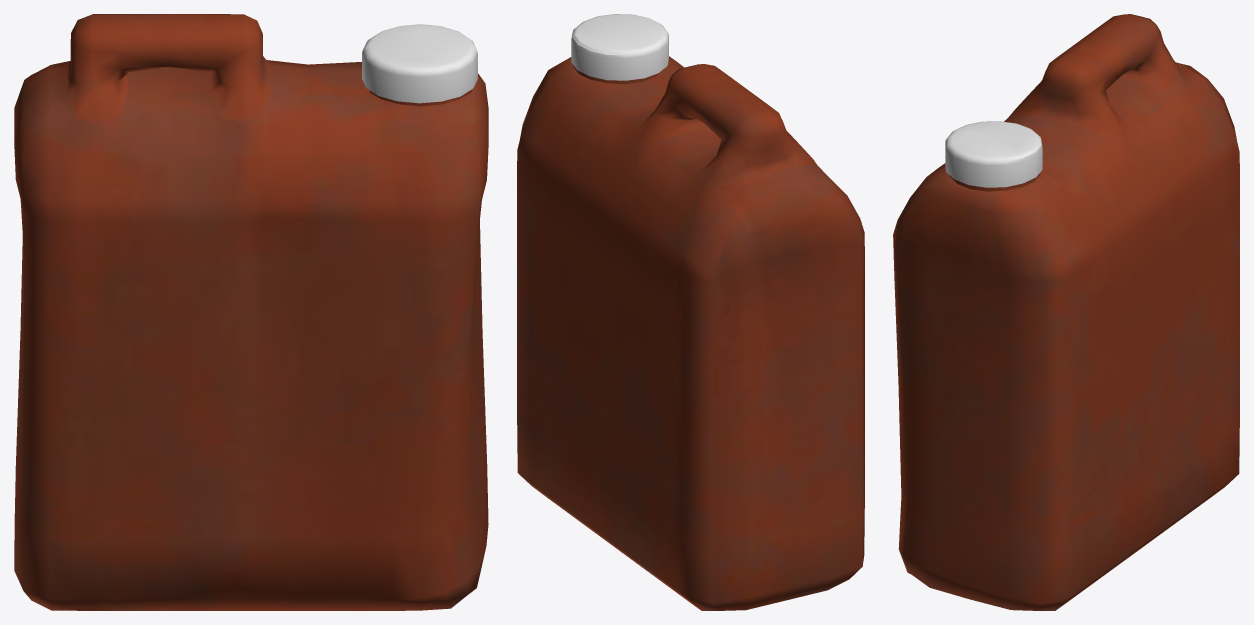
The model's file is WaterJug.fbx.
The picture shows the model from 3 angles, left to right: view 1: azimuth 30°, elevation 25°; view 2: azimuth 150°, elevation 25°; view 3: azimuth 270°, elevation 25°; orthographic projection. The views are drawn at different scales.
Parts seen in each view (by area): view 1: WaterJug; view 2: WaterJug; view 3: WaterJug.
Boxes of the visible parts, left/top/right/bottom form: WaterJug: left=14, top=14, right=488, bottom=610; WaterJug: left=517, top=14, right=864, bottom=610; WaterJug: left=893, top=14, right=1239, bottom=610.
Bounding box in the file's own units: 0.3346 × 0.4121 × 0.2755.
